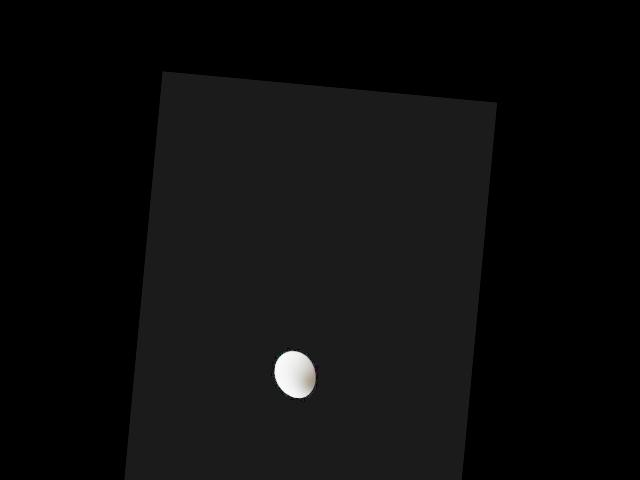egg: (272, 349, 317, 400)
